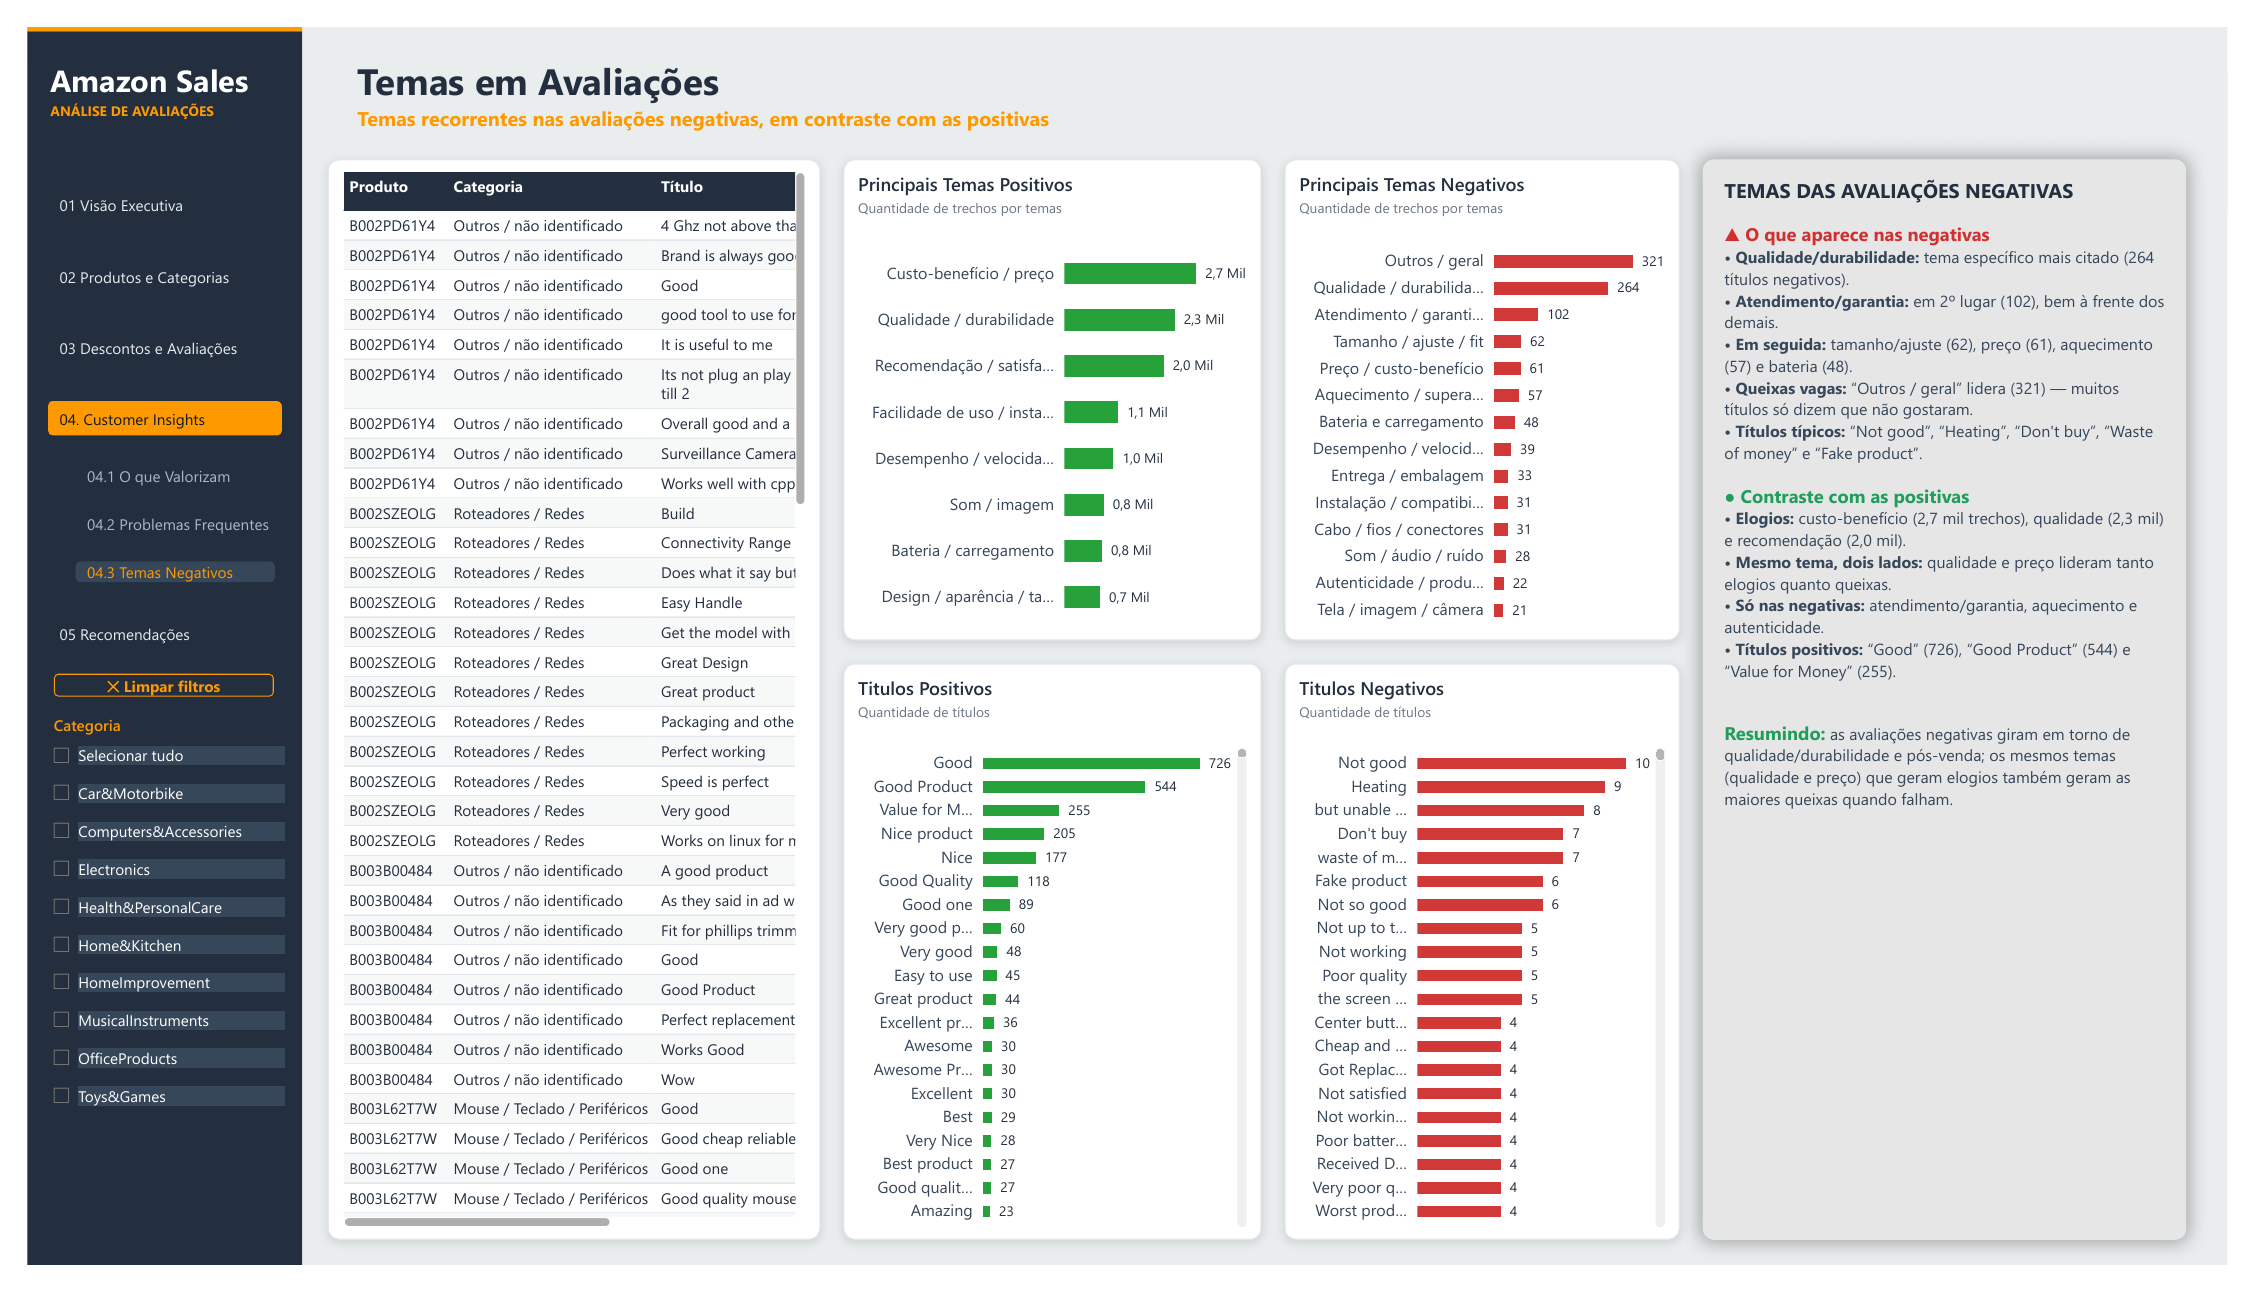

What the dashboard file says about the page in this screenshot:
{"tool":"powerbi","page":{"name":"04.3 Temas em avaliações","canvas":[1920,1080],"ordinal":5},"visuals":[{"type":"textbox","box":[0,0,240,110],"z":0},{"type":"clusteredBarChart","title":"Principais Temas Positivos","fields":{"Category":["BR_Temas_Positivos.tema_positivo"],"Y":["Sum(BR_Temas_Positivos.total_trechos)"]},"box":[712,115,365,420],"z":1000},{"type":"clusteredBarChart","title":"Principais Temas Negativos","fields":{"Category":["BR_Temas_Negativos.tema"],"Y":["Sum(BR_Temas_Negativos.titulos_negativos)"]},"box":[1097,115,345,420],"z":2000},{"type":"clusteredBarChart","title":"Titulos Positivos","fields":{"Category":["BR_Titulos_Sentimento.titulo"],"Y":["BR_Titulos_Sentimento.Count of sentimento for Positivo"]},"box":[712,555,365,503],"z":3000},{"type":"clusteredBarChart","title":"Titulos Negativos","fields":{"Category":["BR_Titulos_Sentimento.titulo"],"Y":["BR_Titulos_Sentimento.Count of sentimento for Negativo"]},"box":[1097,555,345,503],"z":4000},{"type":"tableEx","fields":{"Values":["BU_dProdutos.product_id","BR_Titulos_Sentimento.categoria_estimada","BR_Titulos_Sentimento.titulo"]},"box":[262,115,430,943],"z":5000},{"type":"actionButton","box":[6,130,228,50],"z":6000},{"type":"actionButton","box":[6,192,228,50],"z":7000},{"type":"actionButton","box":[6,254,228,50],"z":8000},{"type":"actionButton","box":[6,504,228,50],"z":9000},{"type":"actionButton","box":[6,316,228,50],"z":10000},{"type":"actionButton","box":[30,372,198,38],"z":11000},{"type":"actionButton","box":[30,414,198,38],"z":12000},{"type":"actionButton","box":[30,456,198,38],"z":13000},{"type":"slicer","fields":{"Values":["BU_dProdutos.categoria_n1"]},"box":[11.4,600,217.1,351.4],"z":14000},{"type":"actionButton","box":[11.4,554.3,216,40],"z":15000},{"type":"textbox","box":[276,14,1600,92],"z":16000},{"type":"textbox","box":[1462,115,422,943],"z":17000}]}

Visuals, with their boxes on the page's 1920x1080 design canvas (x1, y1, x2, y2). These are canvas units, not pixel positions in the 2255x1293 screenshot, which may show the page scaled, cropped or inside an application window:
textbox: x1=0, y1=0, x2=240, y2=110
"Principais Temas Positivos" clusteredBarChart: x1=712, y1=115, x2=1077, y2=535
"Principais Temas Negativos" clusteredBarChart: x1=1097, y1=115, x2=1442, y2=535
"Titulos Positivos" clusteredBarChart: x1=712, y1=555, x2=1077, y2=1058
"Titulos Negativos" clusteredBarChart: x1=1097, y1=555, x2=1442, y2=1058
tableEx - BU_dProdutos.product_id x BR_Titulos_Sentimento.categoria_estimada: x1=262, y1=115, x2=692, y2=1058
actionButton: x1=6, y1=130, x2=234, y2=180
actionButton: x1=6, y1=192, x2=234, y2=242
actionButton: x1=6, y1=254, x2=234, y2=304
actionButton: x1=6, y1=504, x2=234, y2=554
actionButton: x1=6, y1=316, x2=234, y2=366
actionButton: x1=30, y1=372, x2=228, y2=410
actionButton: x1=30, y1=414, x2=228, y2=452
actionButton: x1=30, y1=456, x2=228, y2=494
slicer - BU_dProdutos.categoria_n1: x1=11, y1=600, x2=228, y2=951
actionButton: x1=11, y1=554, x2=227, y2=594
textbox: x1=276, y1=14, x2=1876, y2=106
textbox: x1=1462, y1=115, x2=1884, y2=1058
